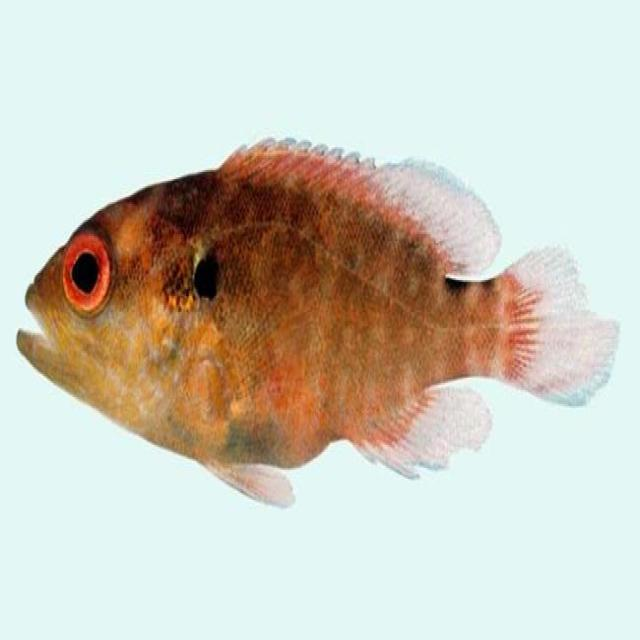ikan: (16, 133, 620, 509)
